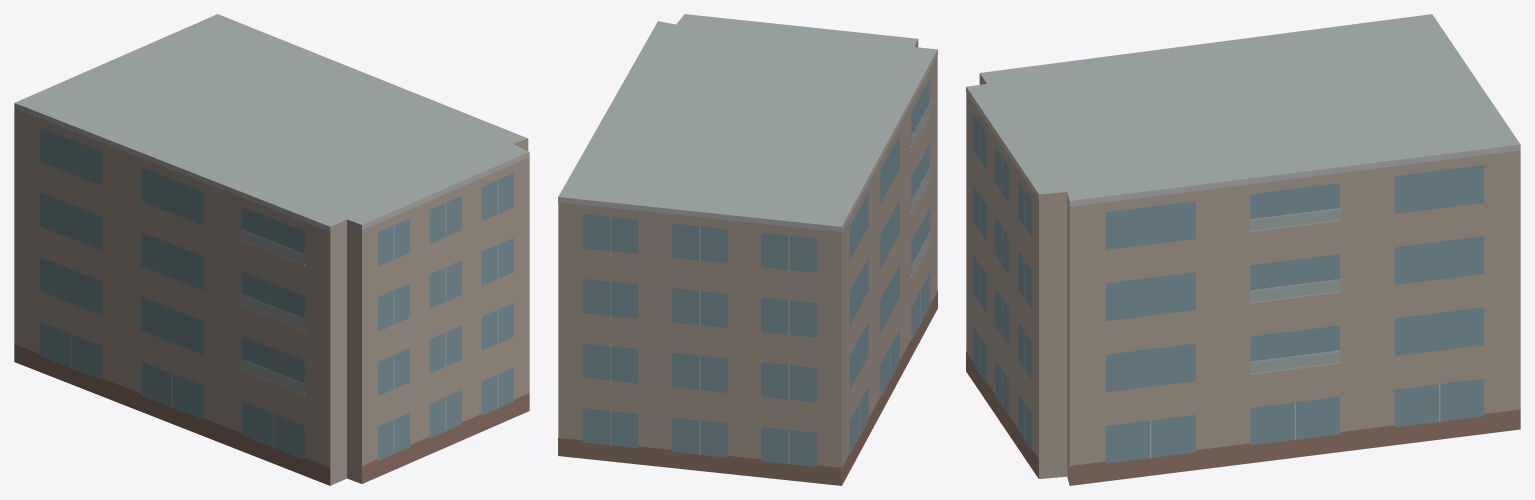
File: survey-upis-32862385.glb
3 renders of one model, left to right at view 1: azimuth 30°, elevation 25°; view 2: azimuth 150°, elevation 25°; view 3: azimuth 270°, elevation 25°, orthographic. The views are drawn at different scales.
Visible parts, largest first — view 1: survey-upis-32862385.tmp; view 2: survey-upis-32862385.tmp; view 3: survey-upis-32862385.tmp.
Part boxes in pixels (<box>): survey-upis-32862385.tmp: <box>14,14,529,485</box>; survey-upis-32862385.tmp: <box>558,14,937,485</box>; survey-upis-32862385.tmp: <box>966,14,1520,485</box>.
Size of the model in its own units: 16.78 by 11.9 by 21.01.
